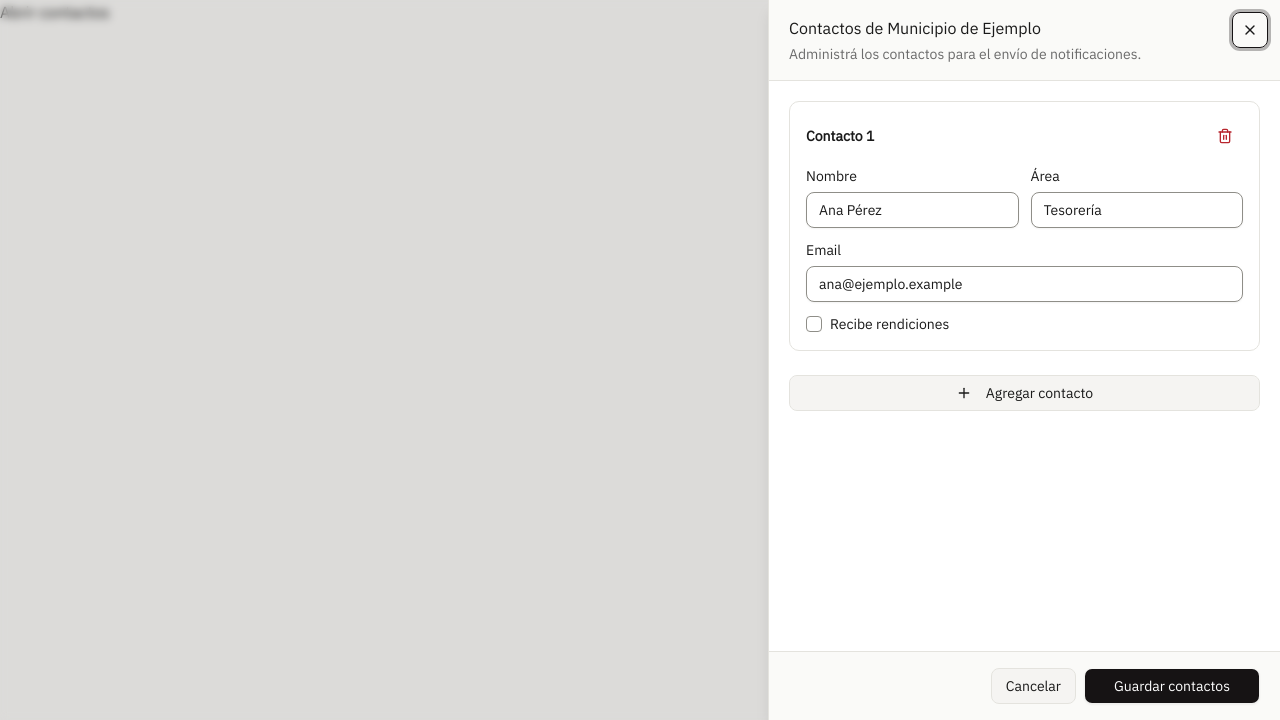
Scenario: GestionarContactosSheet: feedback del guardado › si falla, nunca confirma: queda abierto, con lo escrito y el botón en reposo
Expected: the button "Guardar contactos" is shown, [1084,668,1260,704]
In the field labelled "Nombre": (912, 210) [806,192,1018,228], type " (editado)"
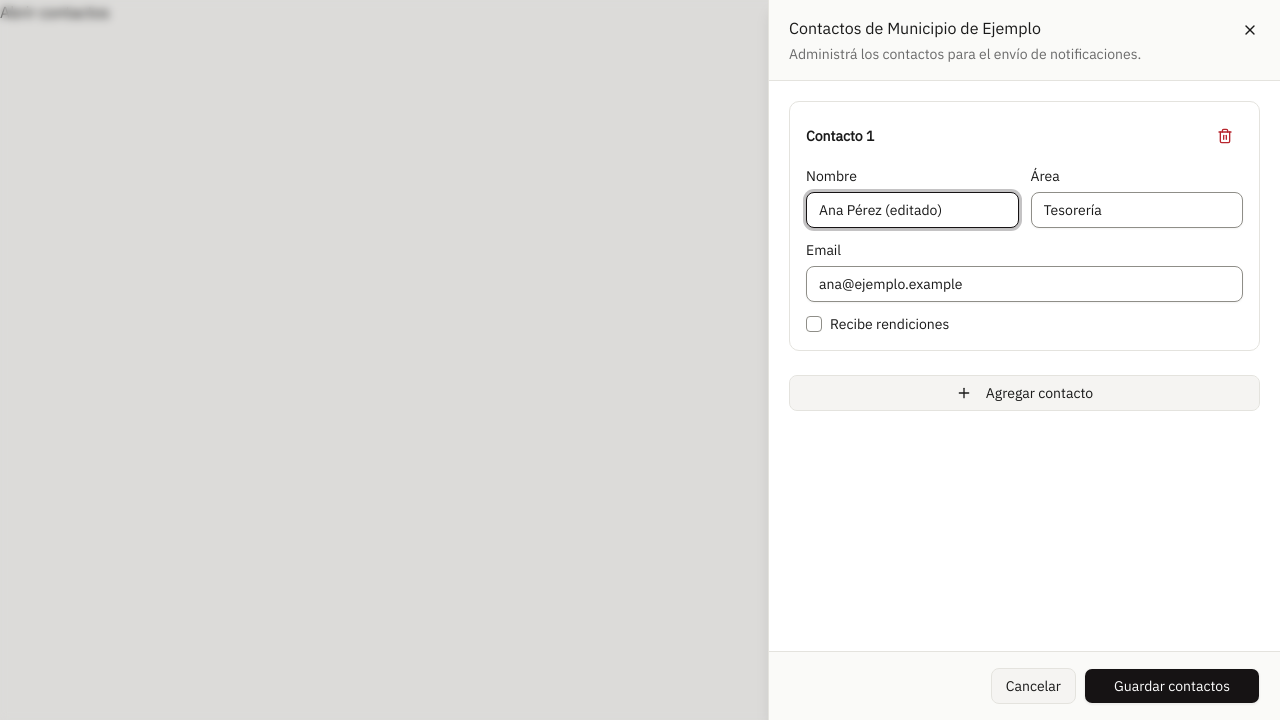
Click the button "Guardar contactos": (1172, 686) [1084,668,1260,704]
Wait 1000 ms
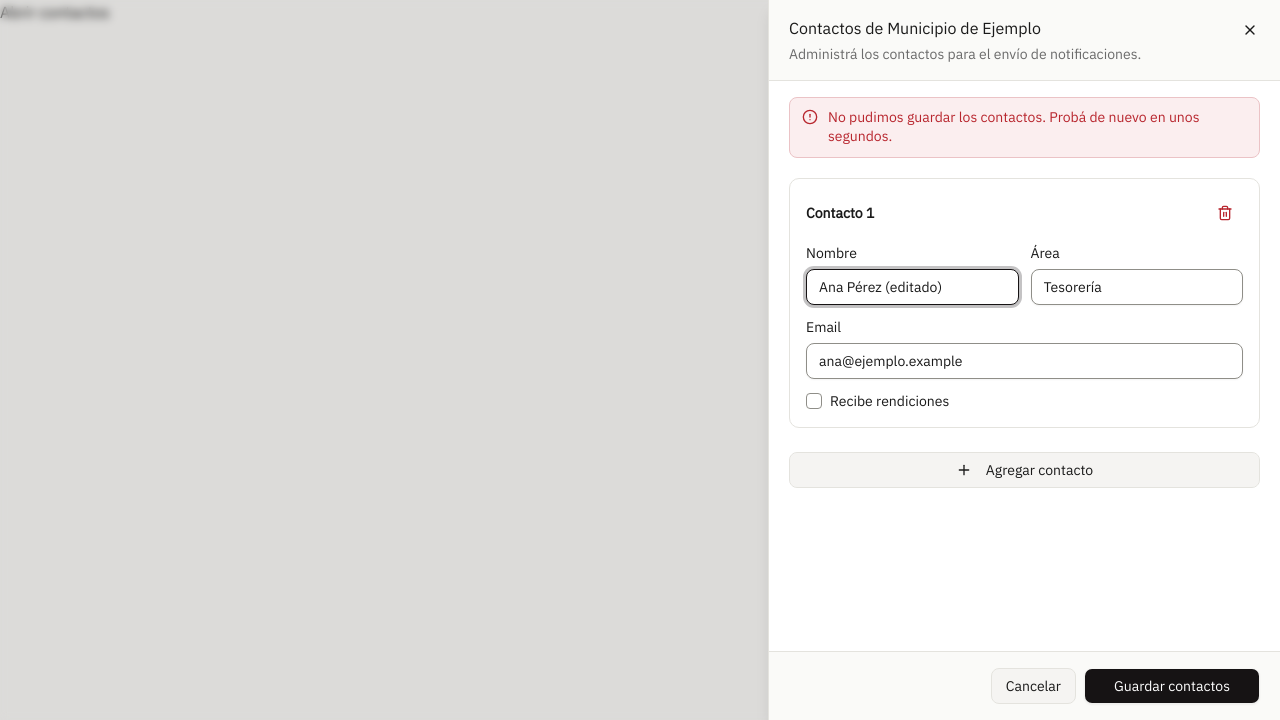
Expected: the dialog "Contactos de" is shown, [768,0,1279,719]
Now the field labelled "Nombre" holds "Ana Pérez (editado)", box [806,268,1018,304]
Now the message shows "No pudimos guardar los contactos.", box [828,108,1200,145]
